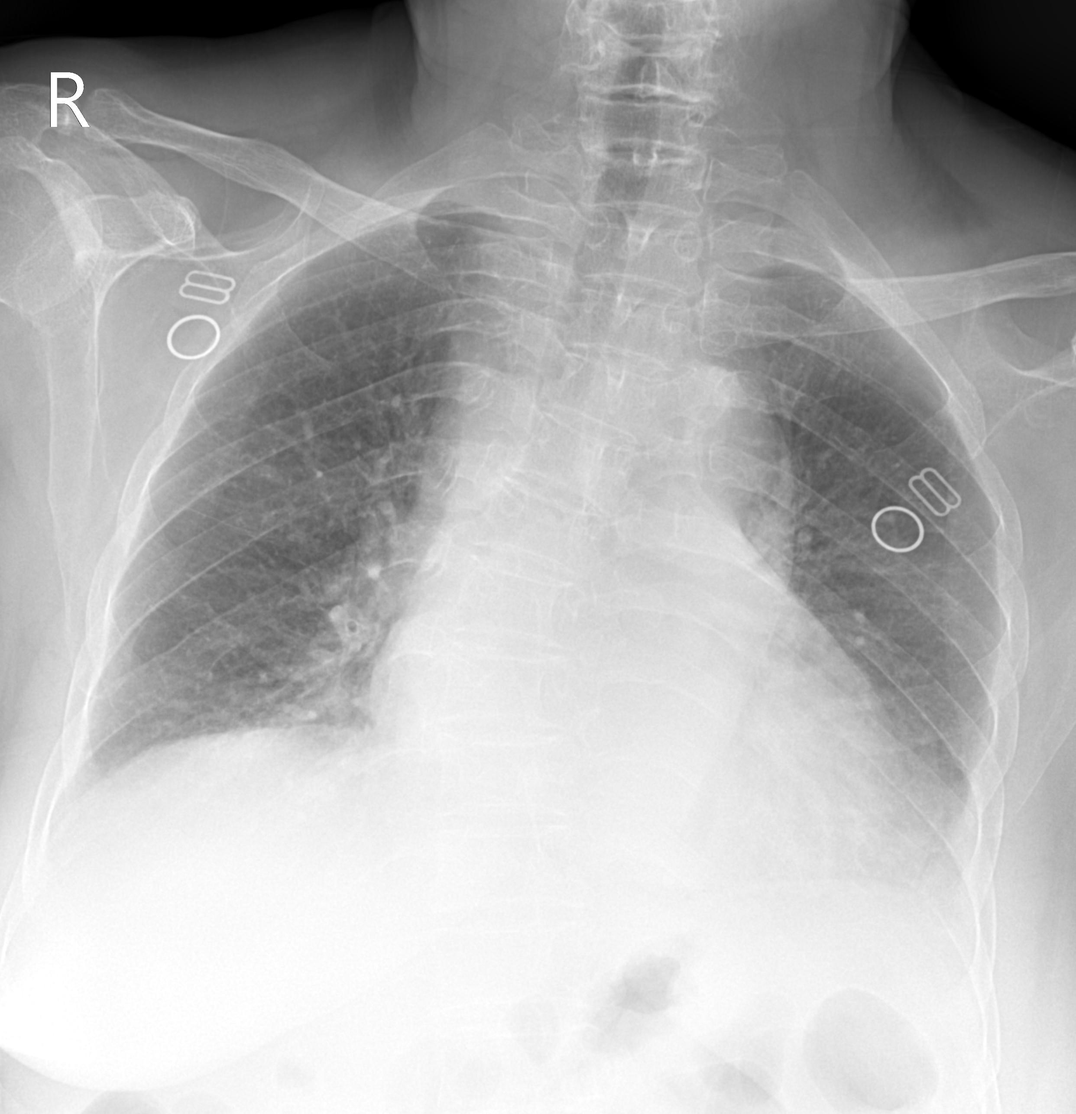Aortic enlargement: (584, 360, 777, 526)
Cardiomegaly: (366, 606, 904, 861)
Pleural thickening: (447, 170, 583, 282)
